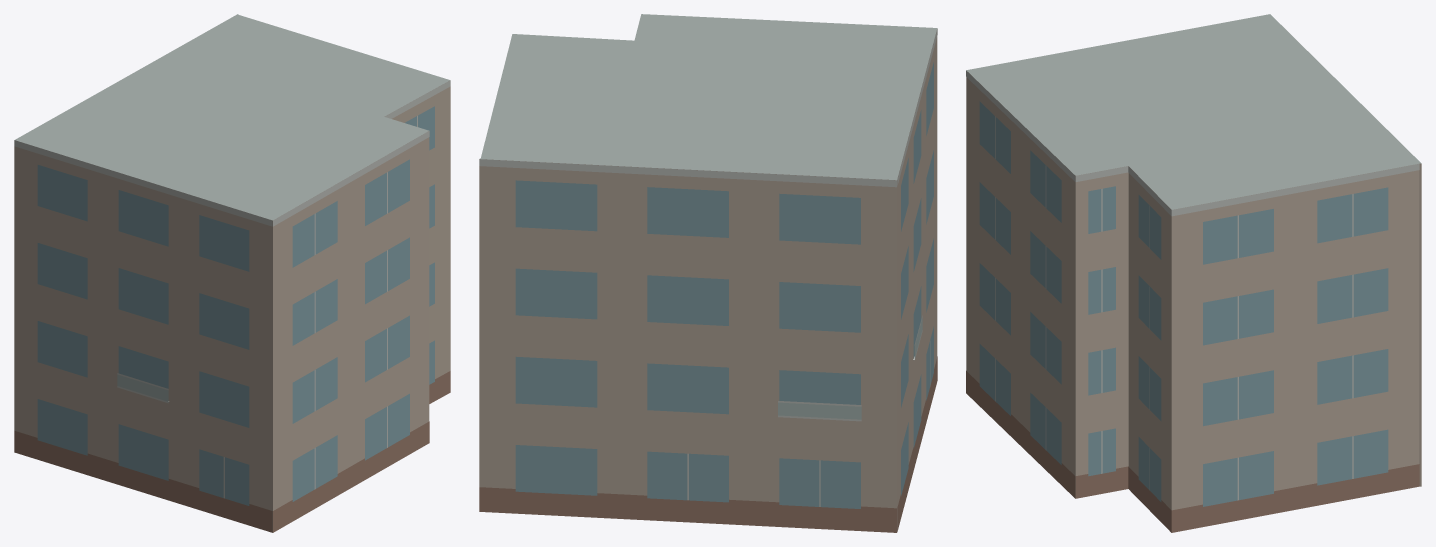
Rendered from survey-upis-32589962.glb.
3 renders of one model, left to right at view 1: azimuth 30°, elevation 25°; view 2: azimuth 150°, elevation 25°; view 3: azimuth 270°, elevation 25°, orthographic. The views are drawn at different scales.
Visible parts, largest first — view 1: survey-upis-32589962.tmp; view 2: survey-upis-32589962.tmp; view 3: survey-upis-32589962.tmp.
Boxes of the visible parts, <box> form: survey-upis-32589962.tmp: <box>14,14,450,532</box>; survey-upis-32589962.tmp: <box>479,14,937,532</box>; survey-upis-32589962.tmp: <box>966,14,1421,532</box>.
Size of the model in its own units: 15.88 by 12.2 by 15.61.
